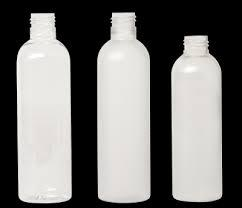Container for household chemicals: (20, 10, 226, 203)
